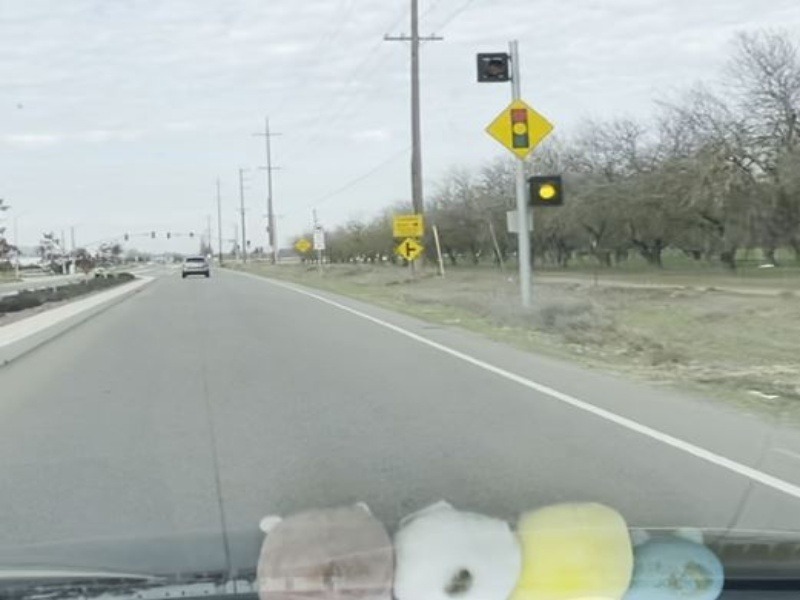street light sign: (480, 97, 560, 158)
